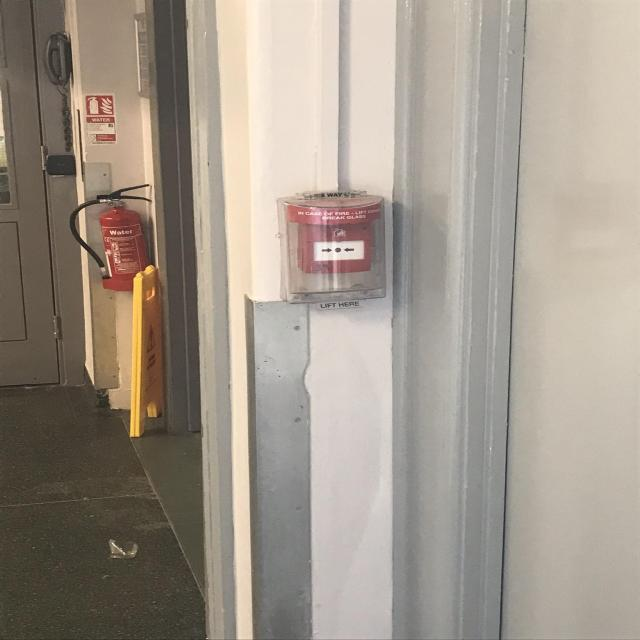fire_extinguisher: (60, 182, 160, 292)
